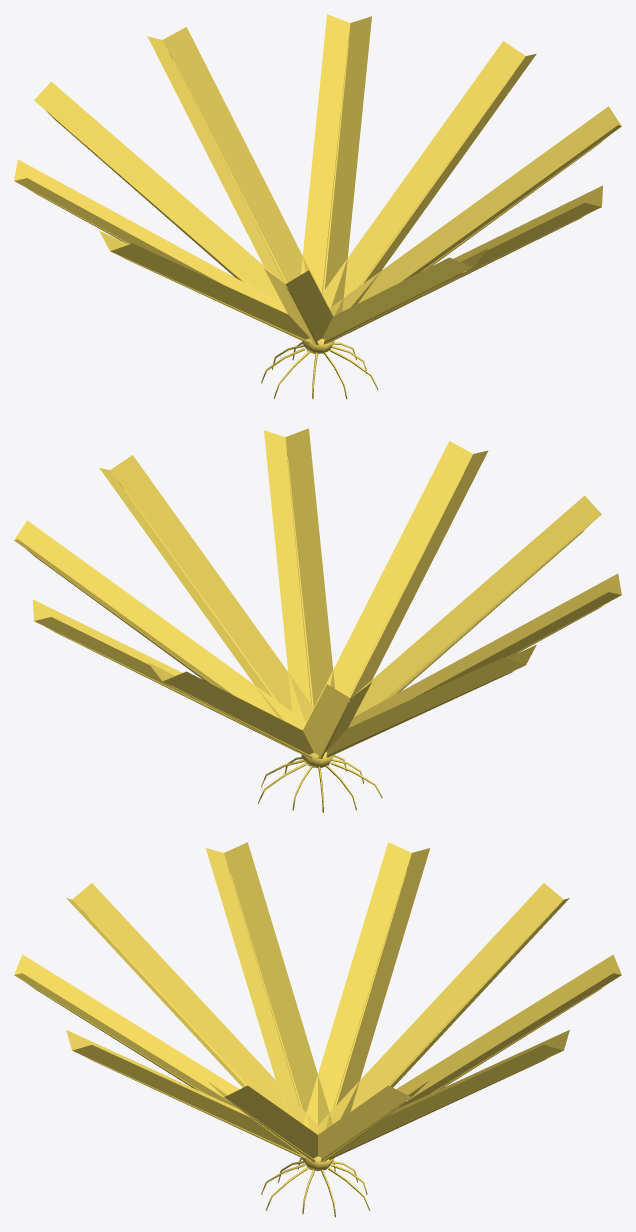
File: crinoid_feather_star_game.glb
3 views of the same model, one above another, from view 1: azimuth 30°, elevation 25°; view 2: azimuth 150°, elevation 25°; view 3: azimuth 270°, elevation 25° (orthographic). The views are drawn at different scales.
Parts seen in each view (by area): view 1: crinoid_feather_star_game; view 2: crinoid_feather_star_game; view 3: crinoid_feather_star_game.
Boxes of the visible parts, x1=… form: crinoid_feather_star_game: x1=14, y1=14, x2=621, y2=399; crinoid_feather_star_game: x1=14, y1=428, x2=621, y2=813; crinoid_feather_star_game: x1=14, y1=842, x2=621, y2=1217.
Bounding box in the file's own units: 0.2573 × 0.1137 × 0.2705.
